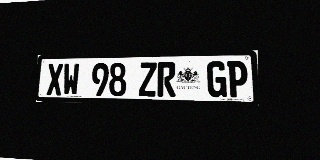8: (109, 62, 126, 96)
9: (92, 63, 109, 96)
G: (207, 61, 227, 97)
P: (227, 61, 248, 97)
R: (157, 62, 176, 97)
W: (63, 63, 79, 96)
X: (47, 63, 63, 95)
Z: (139, 62, 157, 96)
